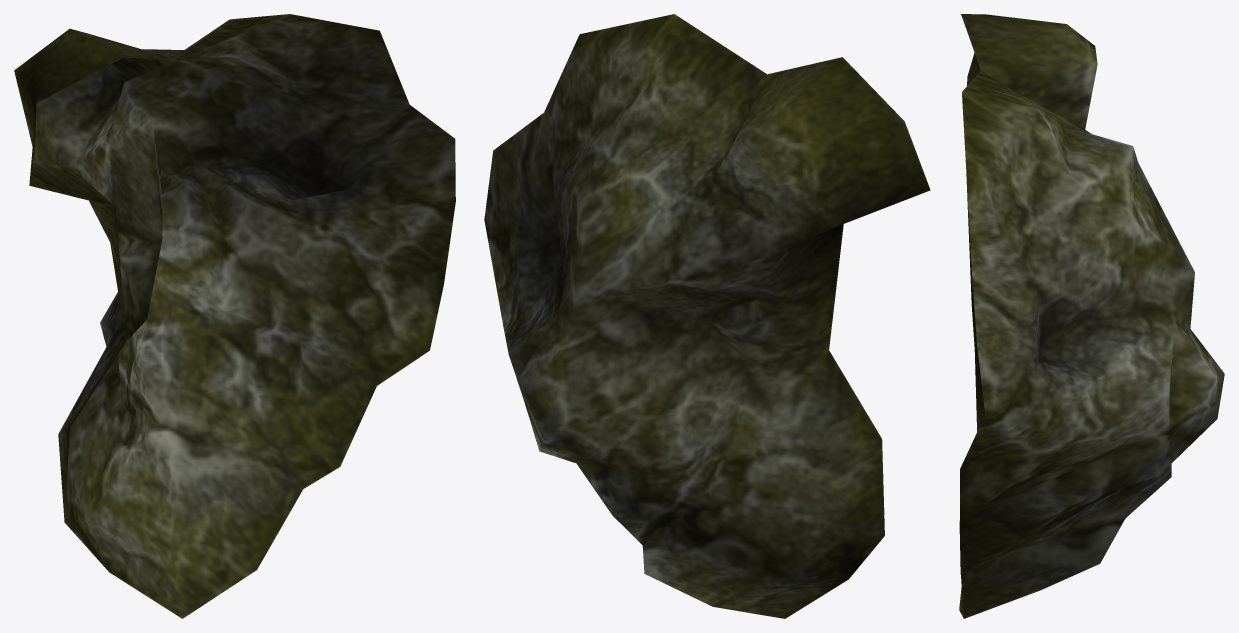
File: MEP_GroundRocks_01_d.fbx
The picture shows the model from 3 angles, left to right: view 1: azimuth 30°, elevation 25°; view 2: azimuth 150°, elevation 25°; view 3: azimuth 270°, elevation 25°; orthographic projection.
Visible parts, largest first — view 1: MEP_GroundRock_01_d; view 2: MEP_GroundRock_01_d; view 3: MEP_GroundRock_01_d.
Boxes of the visible parts, x1,y1,x2,y2 form: MEP_GroundRock_01_d: (14,14,455,618); MEP_GroundRock_01_d: (484,14,930,618); MEP_GroundRock_01_d: (959,14,1224,618).
Bounding box in the file's own units: 2.34 × 2.96 × 1.25.
